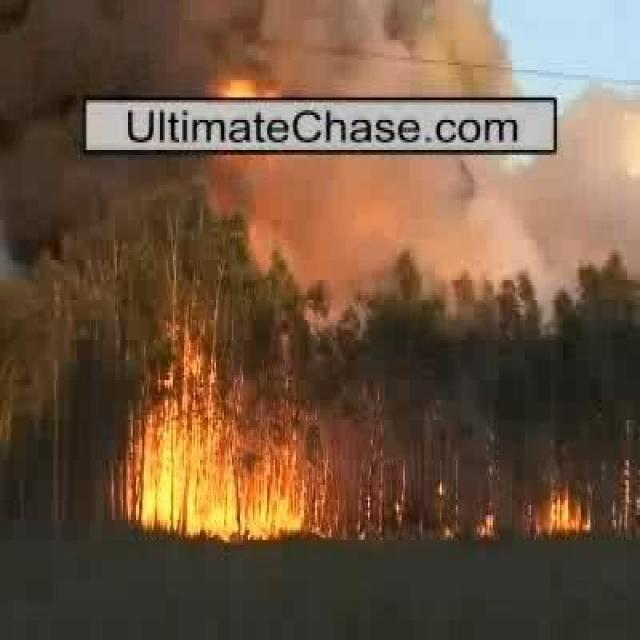fire: (138, 418, 298, 534)
smoke: (61, 0, 512, 92), (257, 159, 581, 256)
